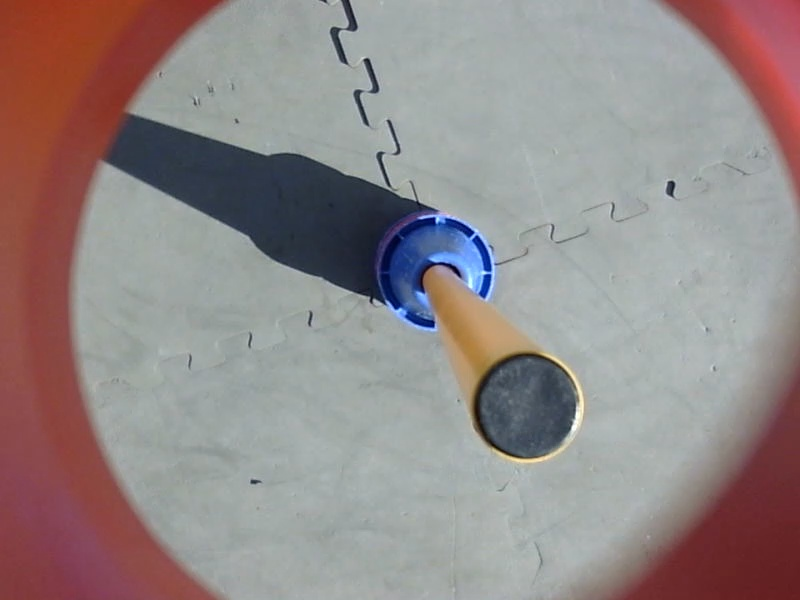tip: (465, 345, 594, 471)
